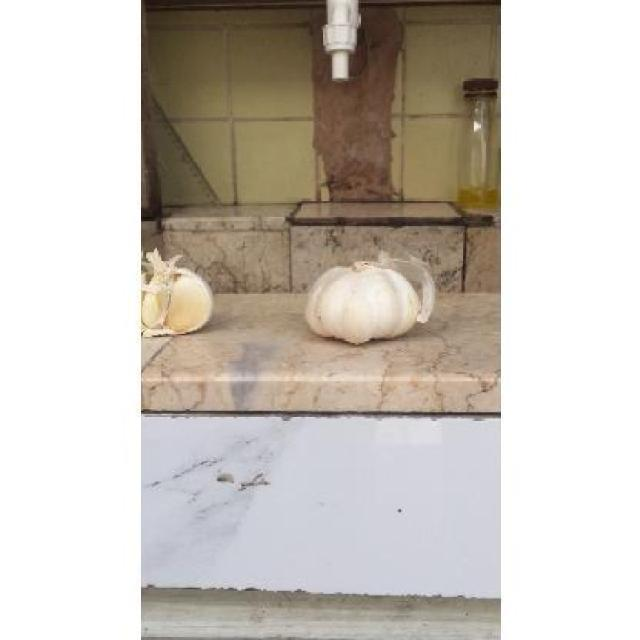garlic: (305, 252, 435, 343), (141, 250, 212, 336)
